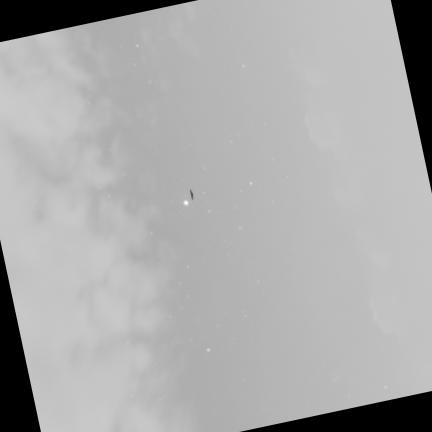Shahed: (190, 190, 193, 198)
